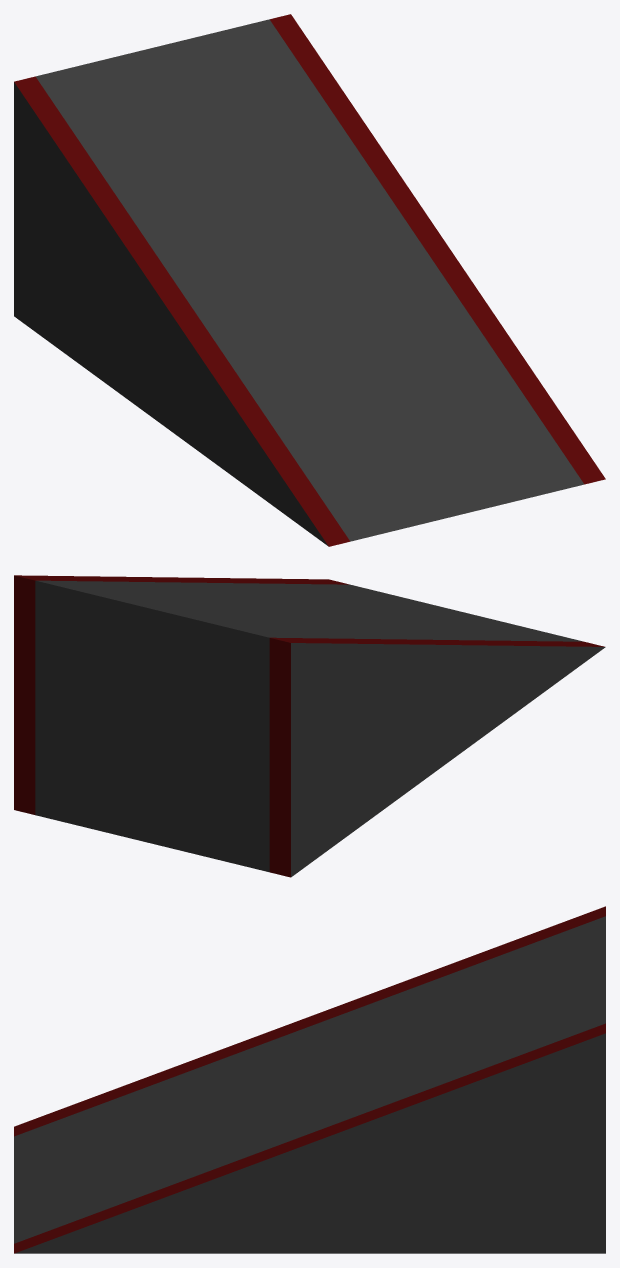
File: SM_ramp.FBX
The picture shows the model from 3 angles, top to bottom: view 1: azimuth 30°, elevation 25°; view 2: azimuth 150°, elevation 25°; view 3: azimuth 270°, elevation 25°; orthographic projection. The views are drawn at different scales.
Visible parts, largest first — view 1: SM_ramp; view 2: SM_ramp; view 3: SM_ramp.
Part boxes in pixels (x1=…): SM_ramp: x1=14, y1=14, x2=605, y2=546; SM_ramp: x1=14, y1=575, x2=605, y2=877; SM_ramp: x1=14, y1=906, x2=605, y2=1253.
Size of the model in its own units: 607 by 1195 by 491.
